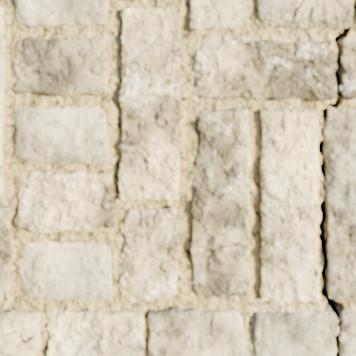brick: (119, 8, 181, 200), (259, 109, 319, 303), (191, 108, 250, 297), (15, 170, 114, 233), (324, 109, 355, 299), (14, 106, 109, 164), (14, 37, 108, 95), (120, 207, 178, 301), (20, 242, 112, 300), (148, 307, 245, 355), (47, 309, 144, 355), (14, 0, 108, 26), (0, 310, 40, 355), (190, 0, 246, 29), (295, 0, 352, 28), (257, 0, 300, 27), (0, 205, 10, 302), (0, 8, 4, 196), (0, 332, 20, 355)
broken_brick: (191, 39, 335, 101), (253, 309, 337, 355), (342, 40, 355, 100), (340, 310, 355, 355)
crack: (317, 1, 355, 355), (0, 326, 33, 355), (199, 238, 249, 254), (291, 0, 307, 27), (39, 91, 51, 95), (284, 295, 287, 302)
